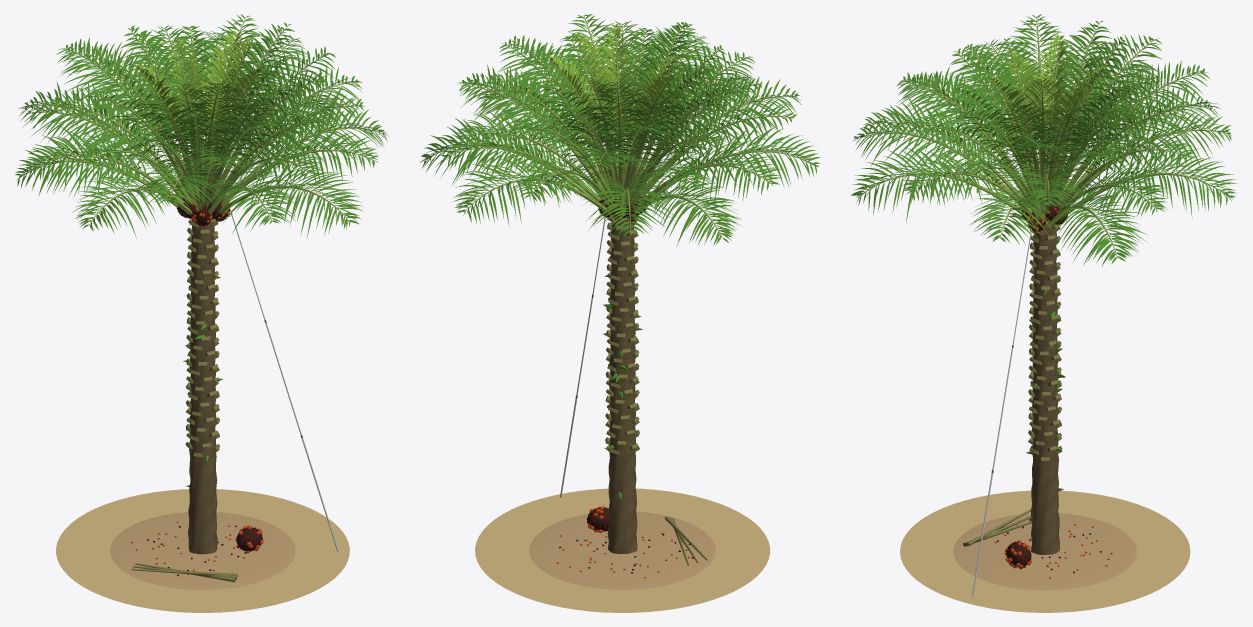
Rendered from kelapa-sawit-tm-tua.glb.
3 views of the same model, side by side, from view 1: azimuth 30°, elevation 25°; view 2: azimuth 150°, elevation 25°; view 3: azimuth 270°, elevation 25° (orthographic).
Visible parts, largest first — view 1: rumput, piringan, batang, anak_daun_46, anak_daun_44, anak_daun_39, anak_daun_41, anak_daun_38, anak_daun_33, anak_daun_36, anak_daun_47, anak_daun_26 (+36 smaller); view 2: rumput, piringan, batang, anak_daun_45, anak_daun_47, anak_daun_42, anak_daun_39, anak_daun_44, anak_daun_37, anak_daun_32, anak_daun_31, anak_daun_40 (+37 smaller); view 3: rumput, piringan, batang, anak_daun_48, anak_daun_45, anak_daun_46, anak_daun_43, anak_daun_40, anak_daun_38, anak_daun_33, anak_daun_37, anak_daun_29 (+36 smaller).
Part boxes in pixels (left/top/right/bottom): rumput: left=56, top=489, right=349, bottom=612; piringan: left=110, top=512, right=295, bottom=589; batang: left=188, top=219, right=217, bottom=554; anak_daun_46: left=250, top=163, right=363, bottom=238; anak_daun_44: left=72, top=168, right=171, bottom=238; anak_daun_39: left=25, top=126, right=148, bottom=199; anak_daun_41: left=208, top=169, right=300, bottom=233; anak_daun_38: left=257, top=125, right=378, bottom=186; anak_daun_33: left=228, top=136, right=324, bottom=196; anak_daun_36: left=134, top=160, right=223, bottom=209; anak_daun_47: left=15, top=133, right=138, bottom=197; anak_daun_26: left=51, top=82, right=159, bottom=163; rumput: left=475, top=488, right=770, bottom=612; piringan: left=529, top=511, right=715, bottom=589; batang: left=607, top=217, right=637, bottom=553; anak_daun_45: left=453, top=155, right=571, bottom=226; anak_daun_47: left=650, top=179, right=741, bottom=246; anak_daun_42: left=584, top=172, right=676, bottom=236; anak_daun_39: left=666, top=135, right=781, bottom=203; anak_daun_44: left=690, top=123, right=820, bottom=188; anak_daun_37: left=510, top=150, right=605, bottom=203; anak_daun_32: left=456, top=106, right=576, bottom=169; anak_daun_31: left=673, top=91, right=796, bottom=165; anak_daun_40: left=441, top=123, right=564, bottom=181; rumput: left=900, top=490, right=1190, bottom=612; piringan: left=953, top=513, right=1136, bottom=590; batang: left=1031, top=209, right=1059, bottom=554; anak_daun_48: left=1053, top=191, right=1147, bottom=265; anak_daun_45: left=1107, top=145, right=1237, bottom=217; anak_daun_46: left=850, top=148, right=981, bottom=223; anak_daun_43: left=970, top=186, right=1054, bottom=244; anak_daun_40: left=1074, top=163, right=1167, bottom=219; anak_daun_38: left=902, top=150, right=1007, bottom=207; anak_daun_33: left=864, top=94, right=989, bottom=171; anak_daun_37: left=1103, top=110, right=1232, bottom=175; anak_daun_29: left=1090, top=61, right=1209, bottom=152.
Size of the model in its own units: 11.58 by 16.66 by 11.77.
